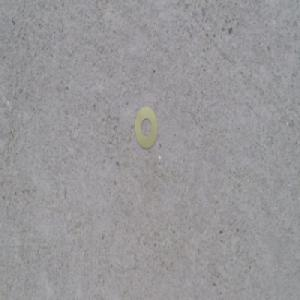Washer: (135, 105, 160, 151)
